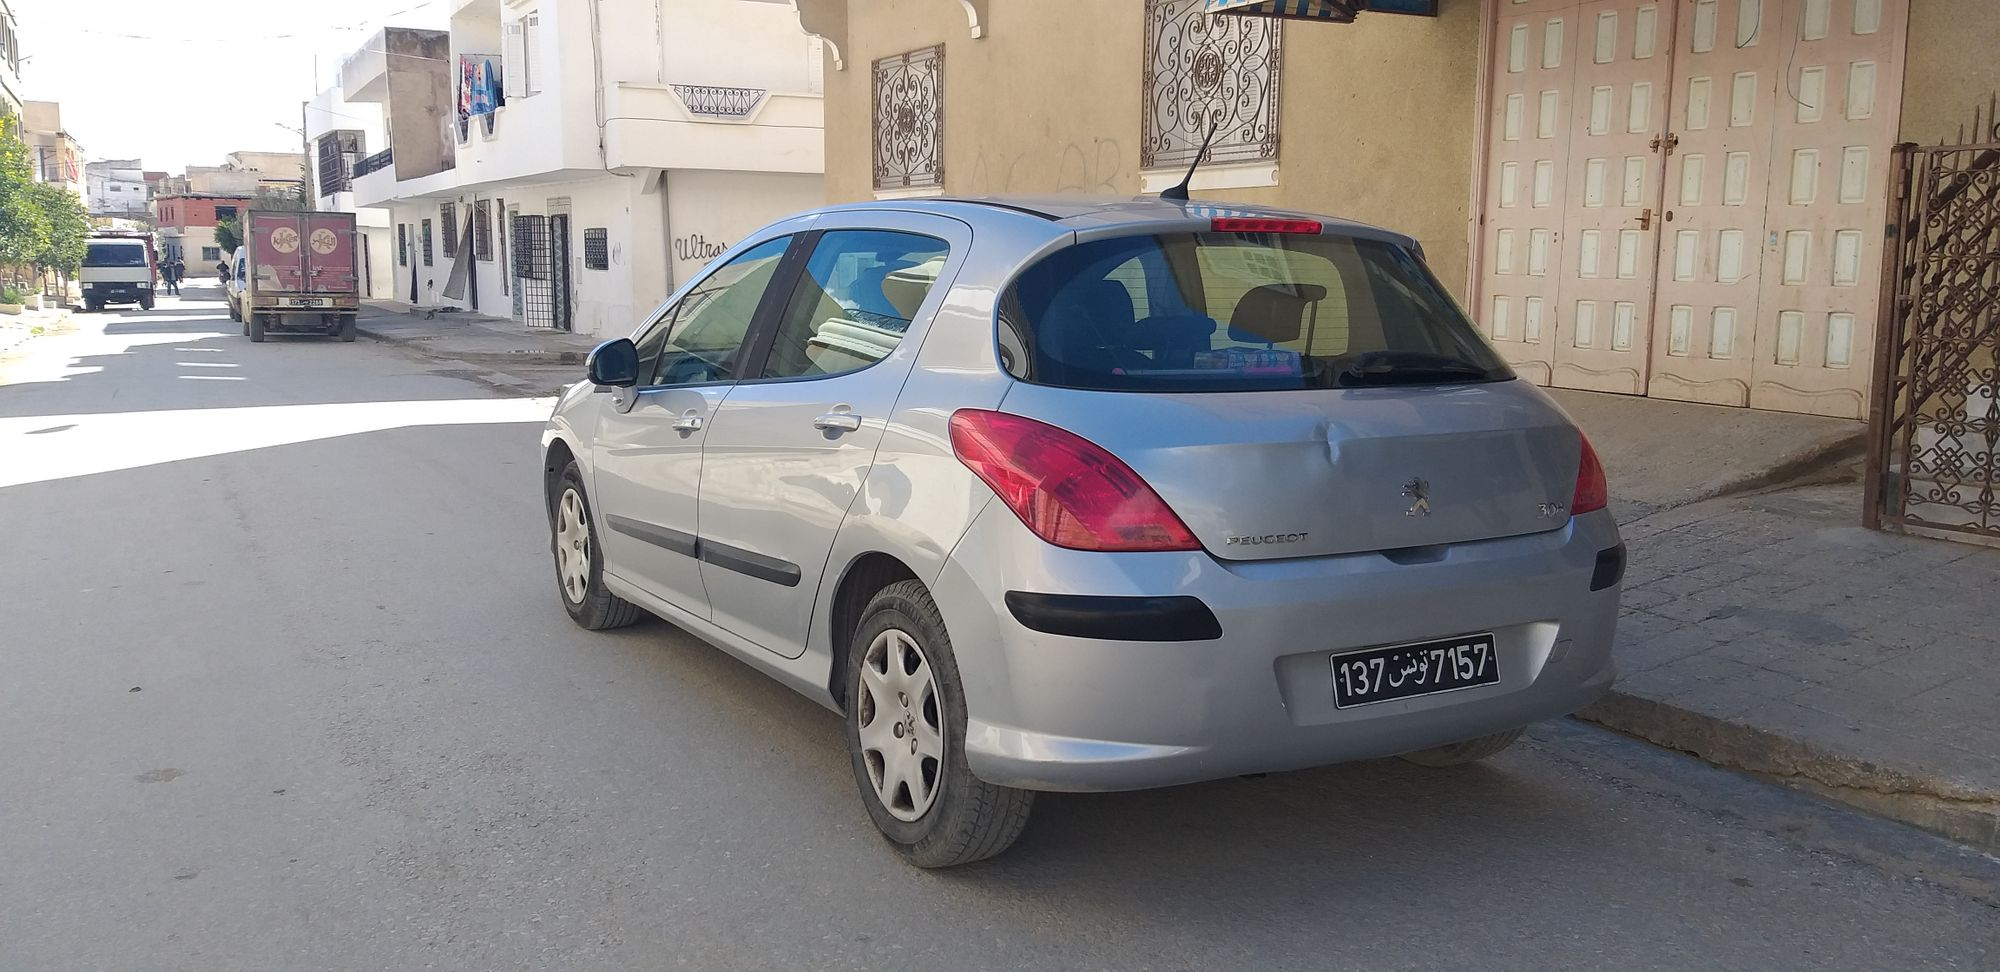LP: (1331, 631, 1500, 707)
